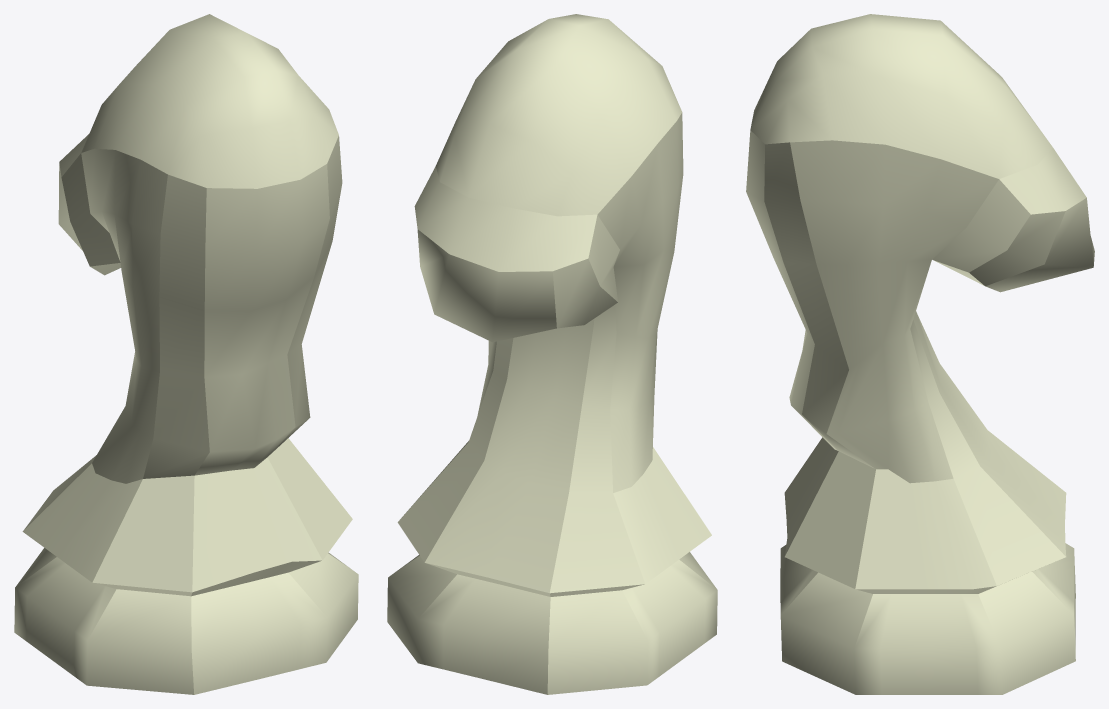
Rendered from Knight.fbx.
3 views of the same model, side by side, from view 1: azimuth 30°, elevation 25°; view 2: azimuth 150°, elevation 25°; view 3: azimuth 270°, elevation 25° (orthographic). The views are drawn at different scales.
Visible parts, largest first — view 1: Knight; view 2: Knight; view 3: Knight.
Part boxes in pixels (left/top/right/bottom): Knight: left=14, top=14, right=358, bottom=694; Knight: left=387, top=14, right=717, bottom=694; Knight: left=746, top=14, right=1094, bottom=694.
Bounding box in the file's own units: 1 × 2.14 × 1.1.
